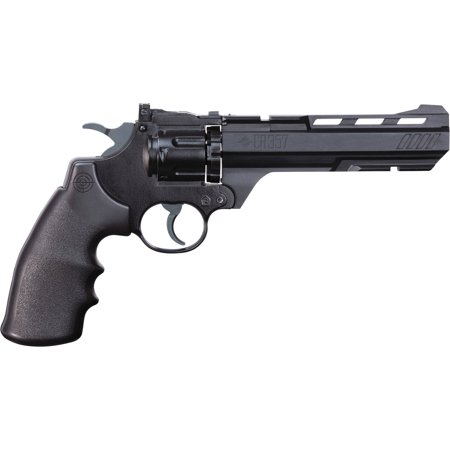Revolver: (0, 68, 447, 353)
